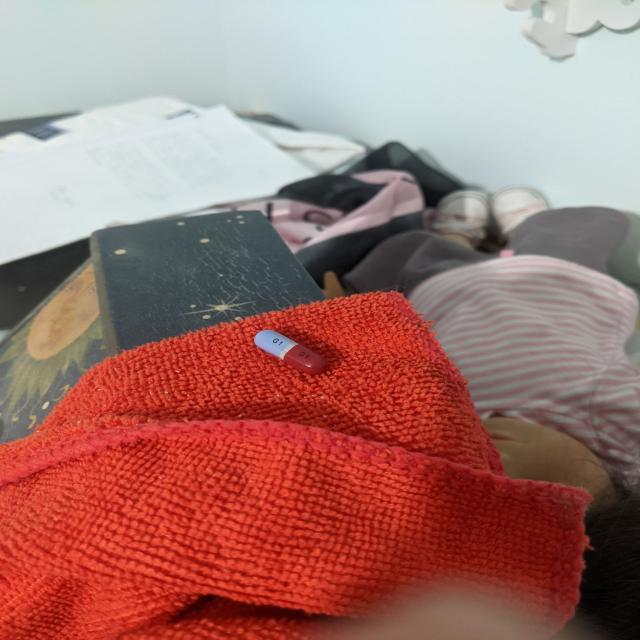non-organic waste: (253, 329, 330, 377)
